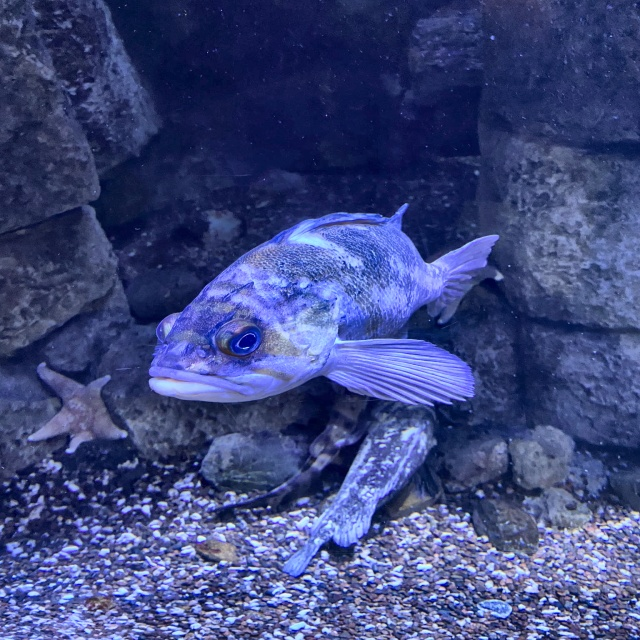fish: (147, 201, 498, 407), (274, 395, 440, 574)
shark: (207, 382, 380, 520)
starfish: (30, 363, 128, 452)
